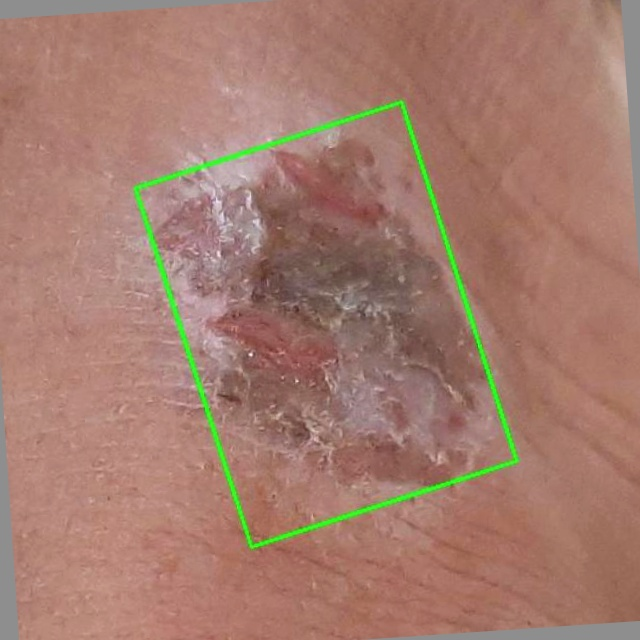Contact Dermatitis: (136, 102, 517, 546)
